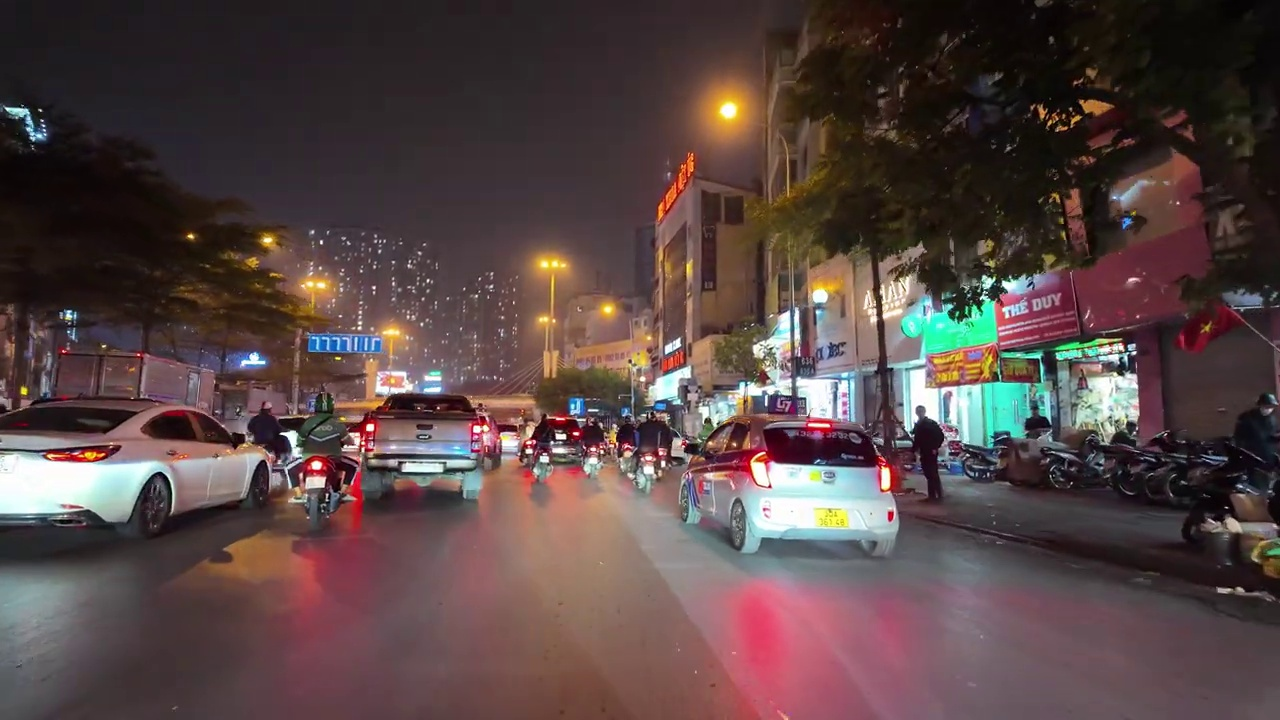acesa: (711, 94, 745, 126), (533, 252, 569, 280), (258, 231, 283, 253), (594, 299, 619, 321)
